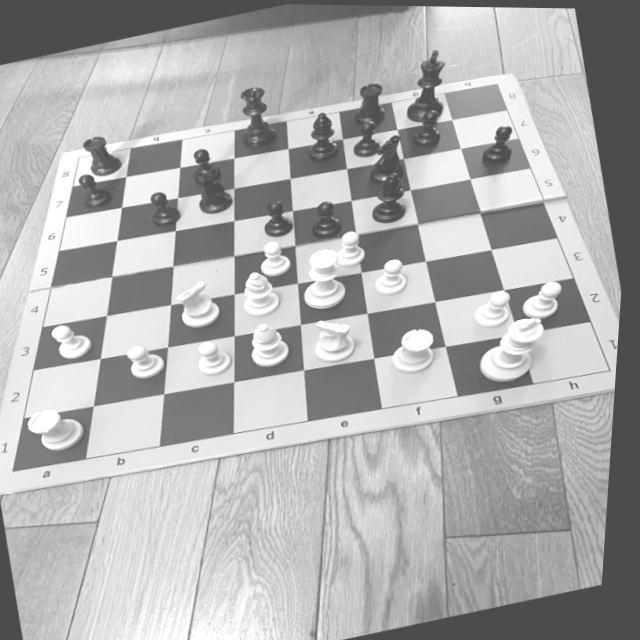chess-table-corners: (488, 76, 509, 90), (604, 360, 622, 376), (11, 464, 34, 476), (73, 150, 91, 164)
